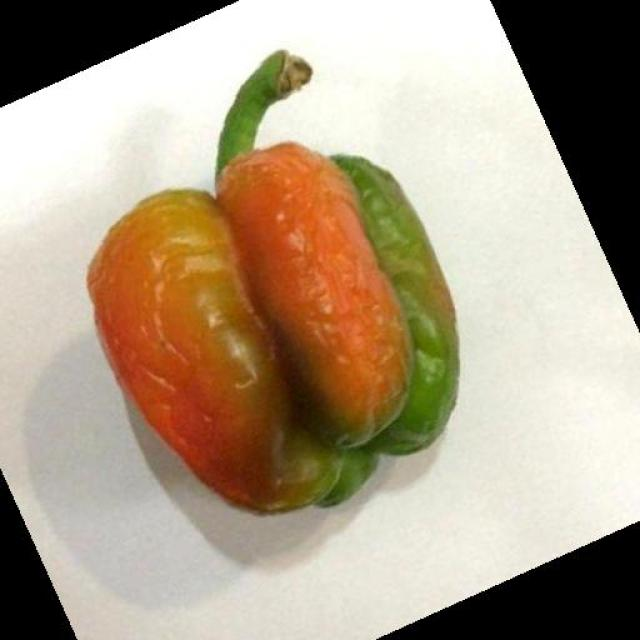Stale_Capsicum: (89, 51, 495, 528)
